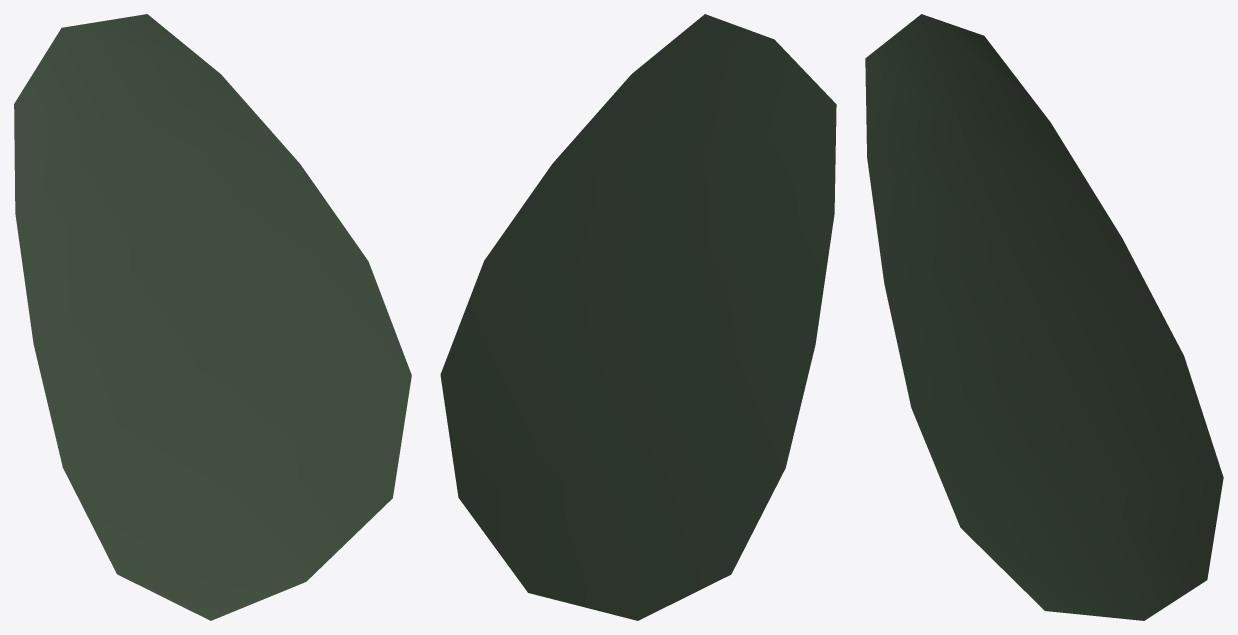
Rendered from duck_feather_flight_tertiary_054.obj.
The picture shows the model from 3 angles, left to right: view 1: azimuth 30°, elevation 25°; view 2: azimuth 150°, elevation 25°; view 3: azimuth 330°, elevation 25°; orthographic projection. The views are drawn at different scales.
Visible parts, largest first — view 1: feather_flight_tertiary_054; view 2: feather_flight_tertiary_054; view 3: feather_flight_tertiary_054.
Part boxes in pixels (<box>): feather_flight_tertiary_054: <box>14,14,411,620</box>; feather_flight_tertiary_054: <box>440,14,836,620</box>; feather_flight_tertiary_054: <box>865,14,1223,620</box>.
Bounding box in the file's own units: 0.0187 × 0.028 × 0.000765.
